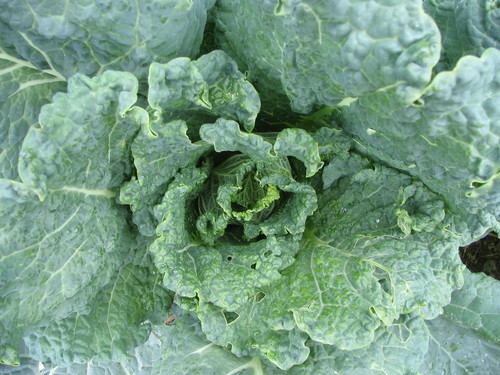cabbage: (0, 1, 499, 373)
